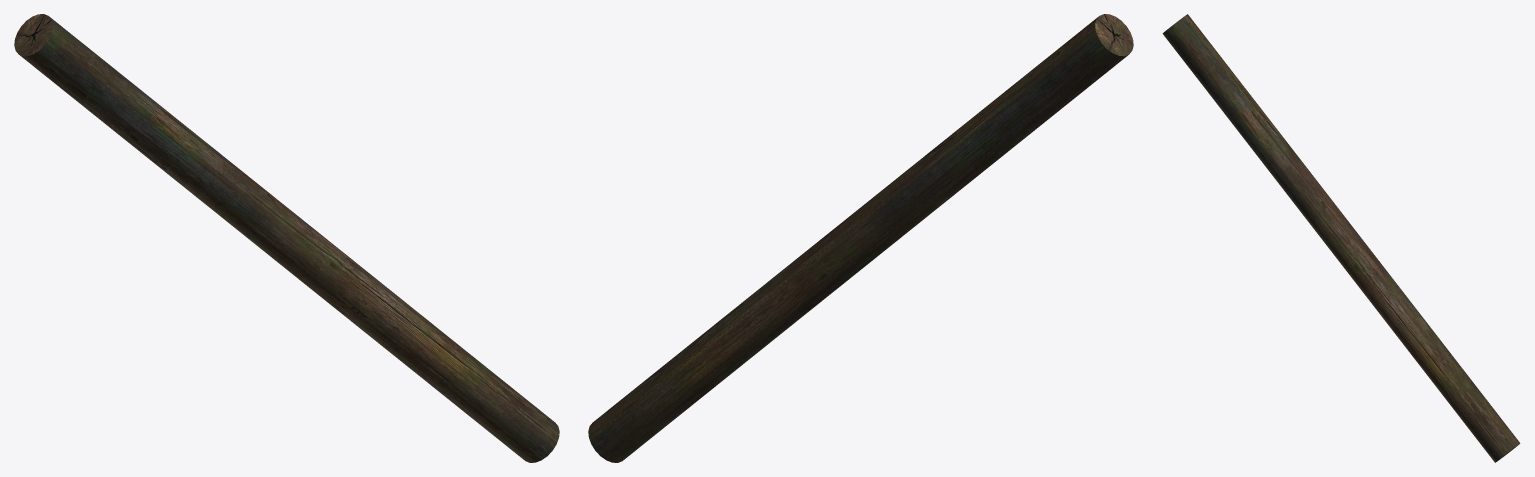
3 views of the same model, side by side, from view 1: azimuth 30°, elevation 25°; view 2: azimuth 150°, elevation 25°; view 3: azimuth 330°, elevation 25° (orthographic). The views are drawn at different scales.
Visible parts, largest first — view 1: SM_BB_T1_Beam_Thin_Large_Diagonal_LOD0; view 2: SM_BB_T1_Beam_Thin_Large_Diagonal_LOD0; view 3: SM_BB_T1_Beam_Thin_Large_Diagonal_LOD0.
Part boxes in pixels (x1,y1,x2,y2): SM_BB_T1_Beam_Thin_Large_Diagonal_LOD0: (14,14,559,462); SM_BB_T1_Beam_Thin_Large_Diagonal_LOD0: (588,14,1133,462); SM_BB_T1_Beam_Thin_Large_Diagonal_LOD0: (1162,14,1520,462).
Size of the model in its own units: 3.18 by 3.18 by 0.2503.
Materials: 1 (1 with a texture image).
